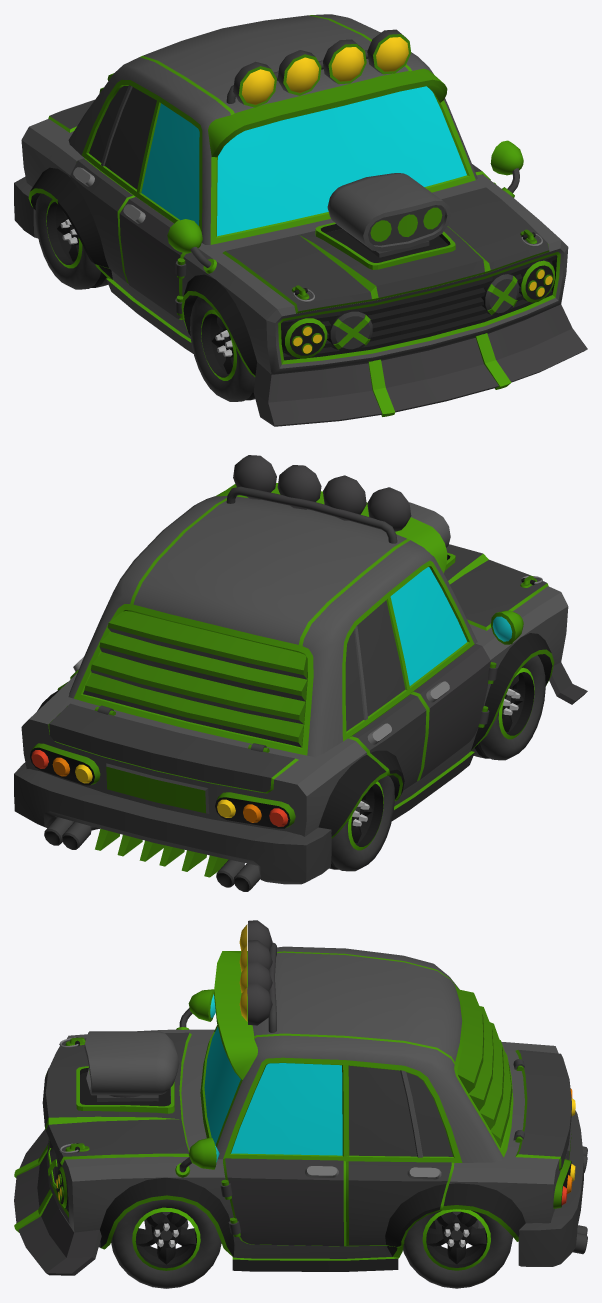
File: VEH2-C.fbx
3 renders of one model, top to bottom at view 1: azimuth 30°, elevation 25°; view 2: azimuth 150°, elevation 25°; view 3: azimuth 270°, elevation 25°, orthographic. The views are drawn at different scales.
Visible parts, largest first — view 1: VEH2_C, V2C_Wheel_FR, V2C_Wheel_BR; view 2: VEH2_C, V2C_Wheel_FR, V2C_Wheel_BR; view 3: VEH2_C, V2C_Wheel_FL, V2C_Wheel_BL.
Boxes of the visible parts, <box> form: VEH2_C: <box>14,14,587,426</box>; V2C_Wheel_FR: <box>190,297,255,401</box>; V2C_Wheel_BR: <box>35,193,108,289</box>; VEH2_C: <box>14,455,587,891</box>; V2C_Wheel_FR: <box>471,655,545,760</box>; V2C_Wheel_BR: <box>329,775,394,871</box>; VEH2_C: <box>14,920,587,1275</box>; V2C_Wheel_FL: <box>111,1199,221,1288</box>; V2C_Wheel_BL: <box>403,1209,512,1288</box>.
Bounding box in the file's own units: 282 × 220 × 422.
Materials: 1 (1 with a texture image).
